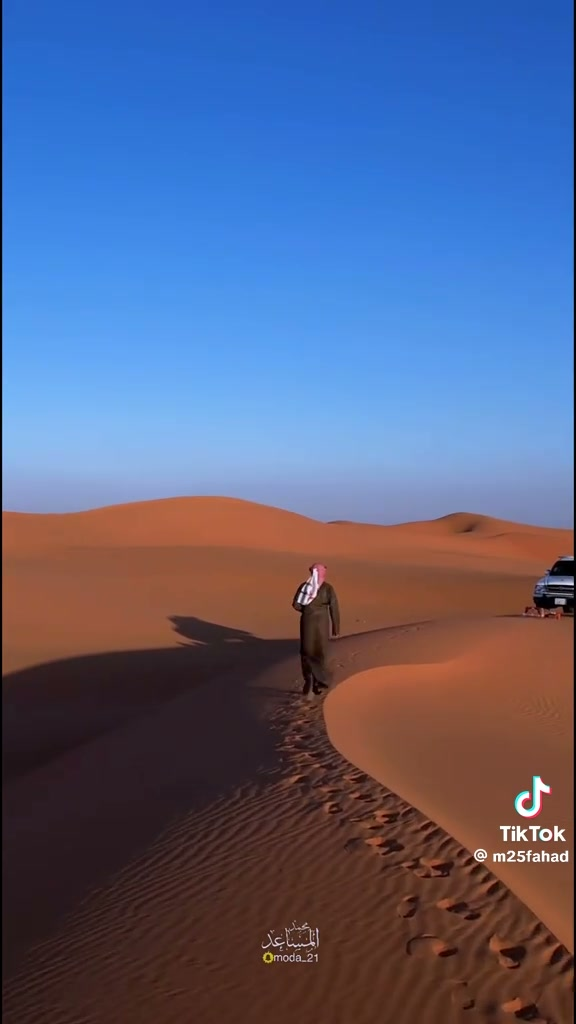human: (292, 563, 339, 695)
human_foot_print: (278, 702, 569, 1023), (501, 996, 552, 1023), (489, 934, 526, 969), (406, 934, 457, 957), (402, 857, 453, 878), (436, 897, 480, 920), (451, 980, 474, 1009), (397, 895, 419, 919)
